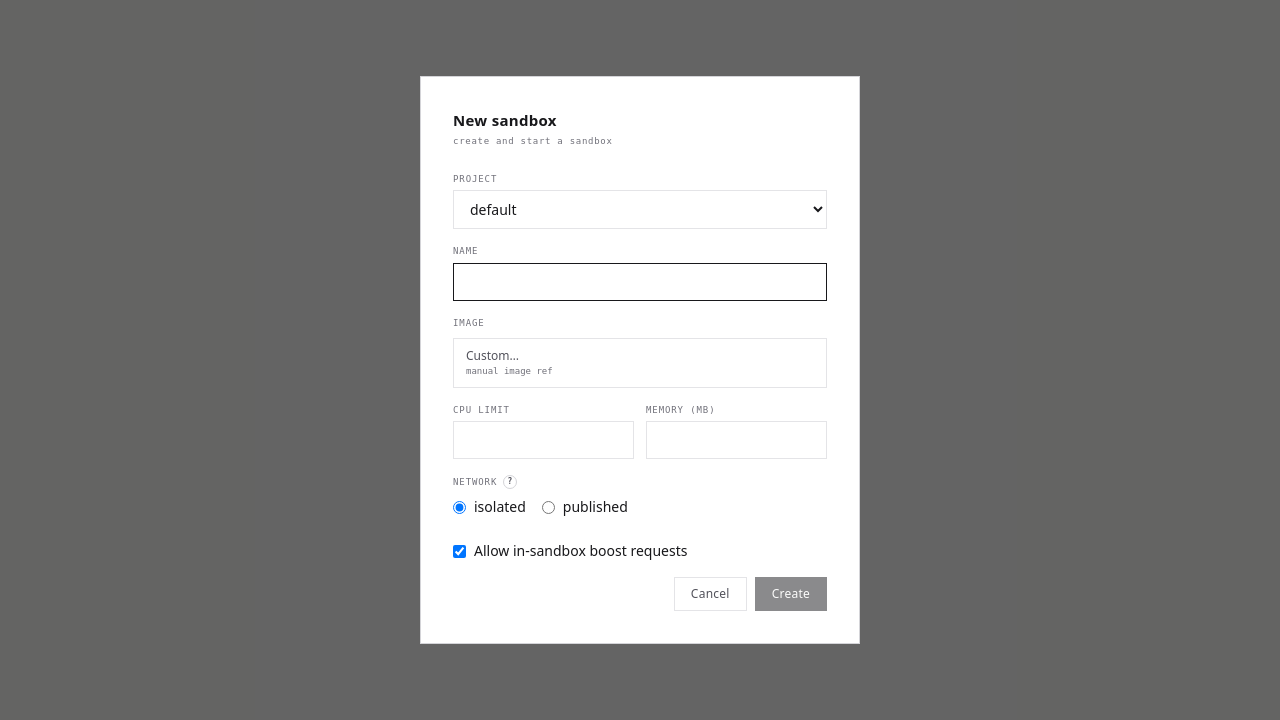
Scenario: NewSandboxDialog — image picker › reveals a text input when Custom… is selected
What coordinates should you click on to do the following:
click the button "Custom… manual image ref"
I would click on:
 (493, 356)
Its box is x1=453 y1=338 x2=827 y2=388.
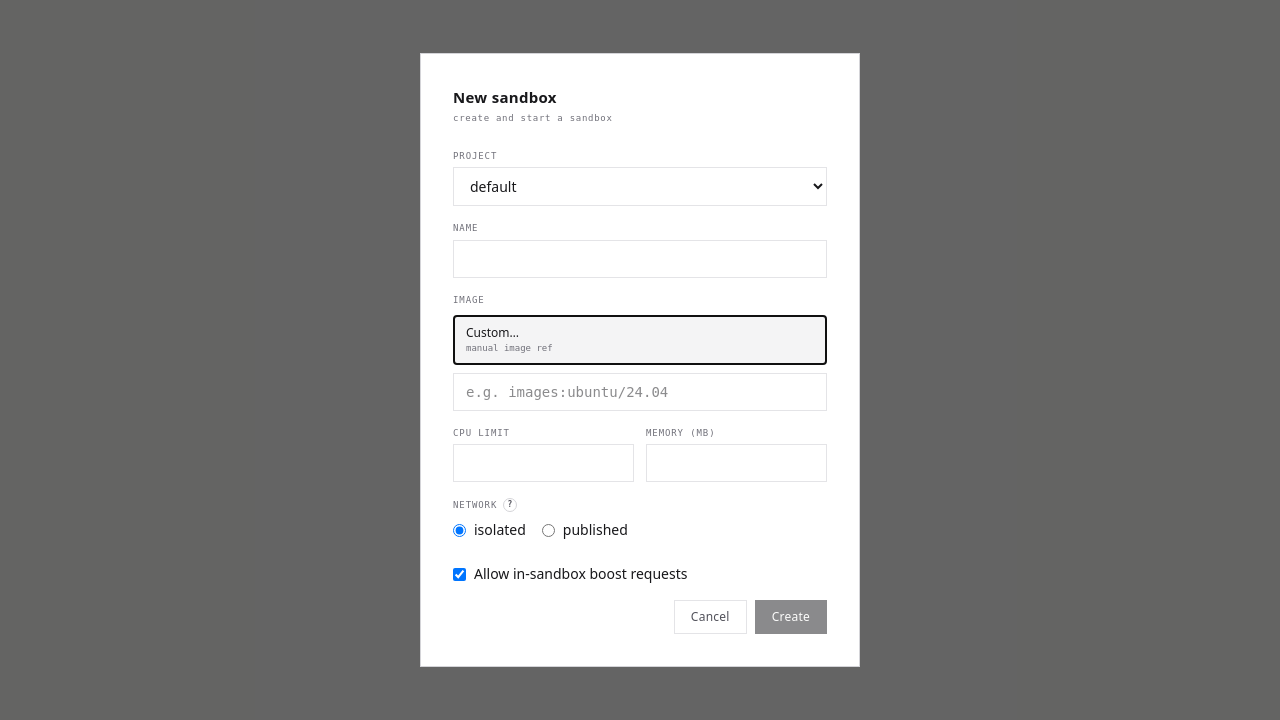
Result: the field named "custom image ref" is shown at x1=453 y1=373 x2=827 y2=411
